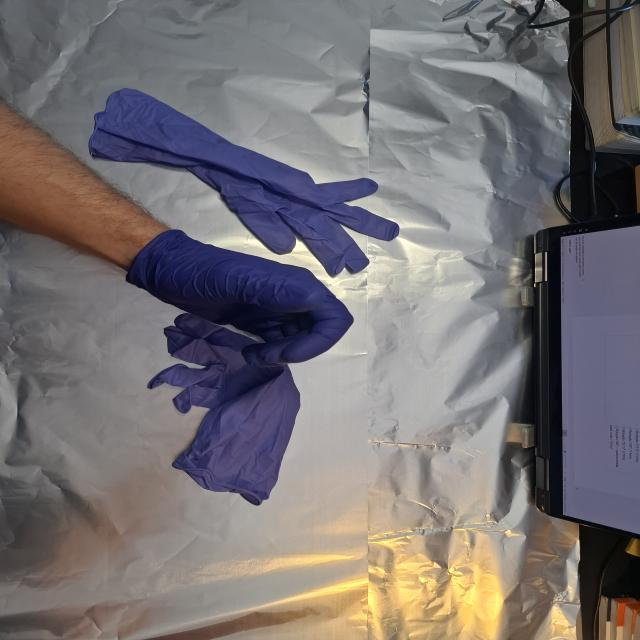glove_on: (126, 229, 358, 368)
